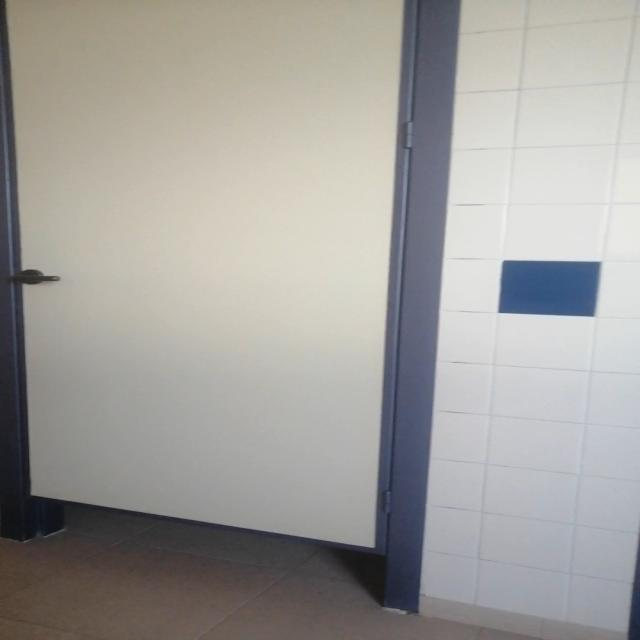door_handle: (14, 273, 64, 285)
